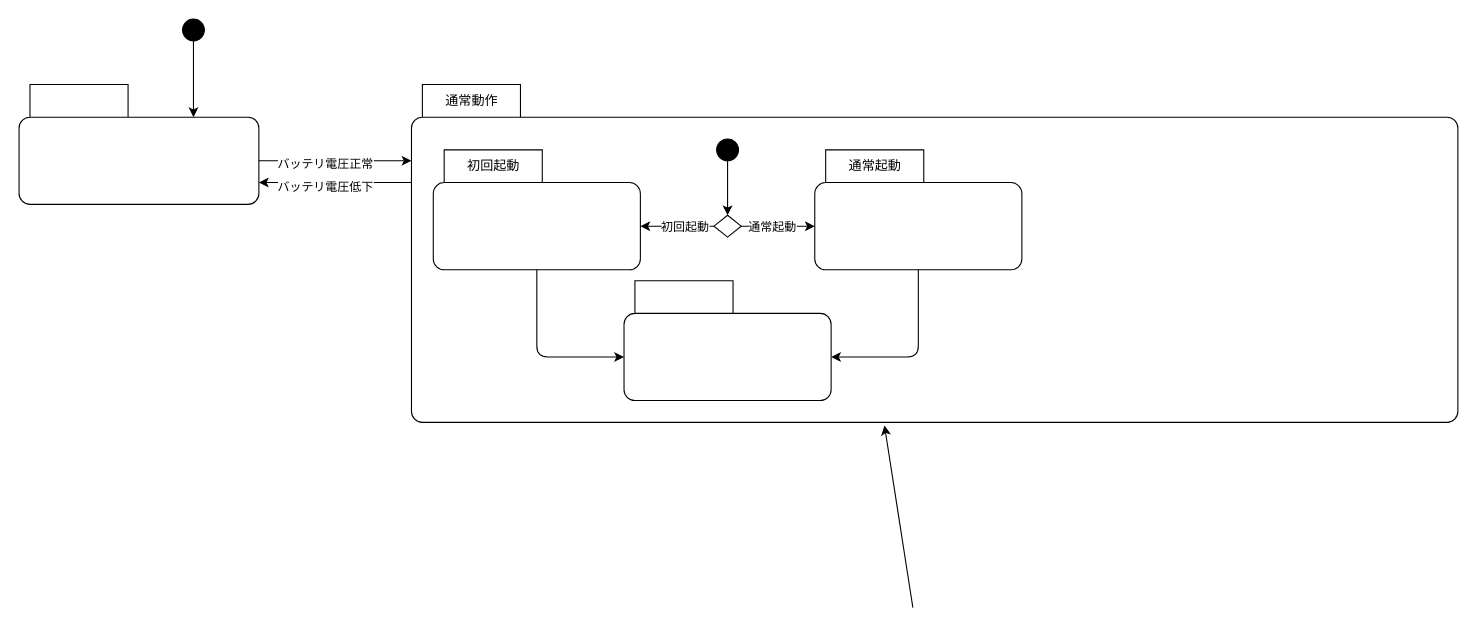
Some shapes in this 1477 by 635 pixel diagram are drawn without their labels. Here are the shapes that lost their labels. From the top down, the centre of each, then its label:
the point at 138,143: 省電力動作
the point at 727,340: 定常動作
